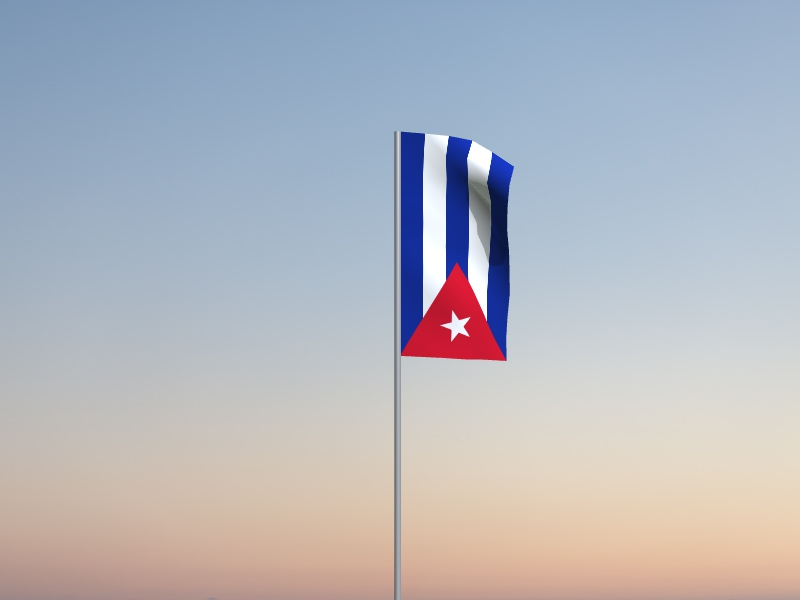cu: (402, 132, 516, 363)
